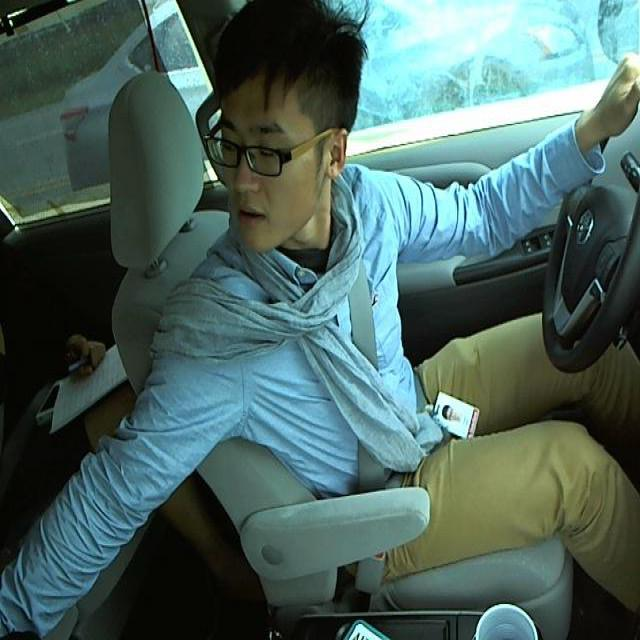seatbelt: (328, 306, 405, 494)
